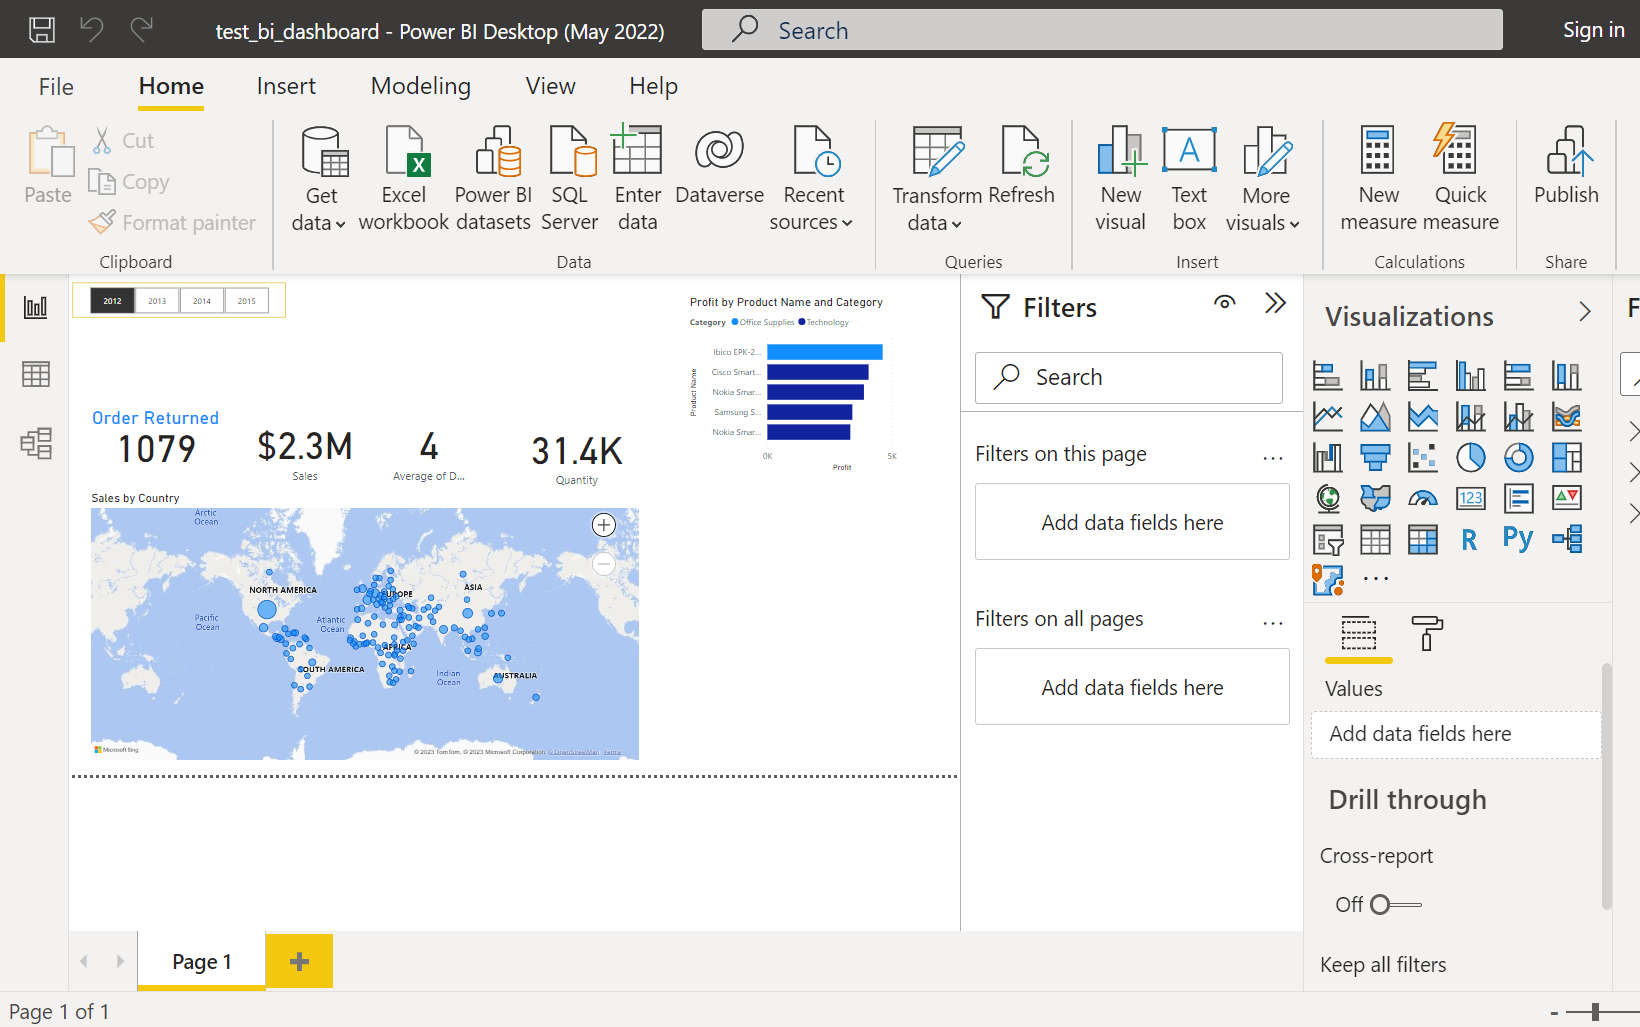

This screenshot's page, from the dashboard's own definition file:
{"tool":"powerbi","page":{"name":"Page 1","canvas":[1280,720],"ordinal":0},"visuals":[{"type":"card","fields":{"Values":["Sum(Orders.Sales)"]},"box":[241.2,180,196.2,142.5],"z":0},{"type":"card","fields":{"Values":["Avg(Orders.Delivery_days)"]},"box":[458.8,188.8,115,123.8],"z":1000},{"type":"card","fields":{"Values":["Sum(Orders.Quantity)"]},"box":[636.2,205,186.2,106.2],"z":2000},{"type":"card","title":"Order Returned","fields":{"Values":["Sum(Returns.Return_Order)"]},"box":[26.2,192.5,195,97.5],"z":3000},{"type":"slicer","fields":{"Values":["Orders.Year"]},"box":[3.8,12.5,306.2,50],"z":4000},{"type":"map","fields":{"Category":["Orders.Country"],"Size":["Sum(Orders.Sales)"]},"box":[26.2,311.2,796.2,391.2],"z":5000},{"type":"barChart","fields":{"Y":["Sum(Orders.Profit)"],"Category":["Orders.Product Name"],"Series":["Orders.Category"]},"box":[887.6,30.2,343,259.3],"z":5001}]}

Visuals, with their boxes on the page's 1280x720 design canvas (x1, y1, x2, y2). These are canvas units, not pixel positions in the 1640x1027 screenshot, which may show the page scaled, cropped or inside an application window:
card - Sum(Orders.Sales): {"x1": 241, "y1": 180, "x2": 437, "y2": 322}
card - Avg(Orders.Delivery_days): {"x1": 459, "y1": 189, "x2": 574, "y2": 313}
card - Sum(Orders.Quantity): {"x1": 636, "y1": 205, "x2": 822, "y2": 311}
"Order Returned" card: {"x1": 26, "y1": 192, "x2": 221, "y2": 290}
slicer - Orders.Year: {"x1": 4, "y1": 12, "x2": 310, "y2": 62}
map - Orders.Country x Sum(Orders.Sales): {"x1": 26, "y1": 311, "x2": 822, "y2": 702}
barChart - Sum(Orders.Profit) x Orders.Product Name: {"x1": 888, "y1": 30, "x2": 1231, "y2": 290}
